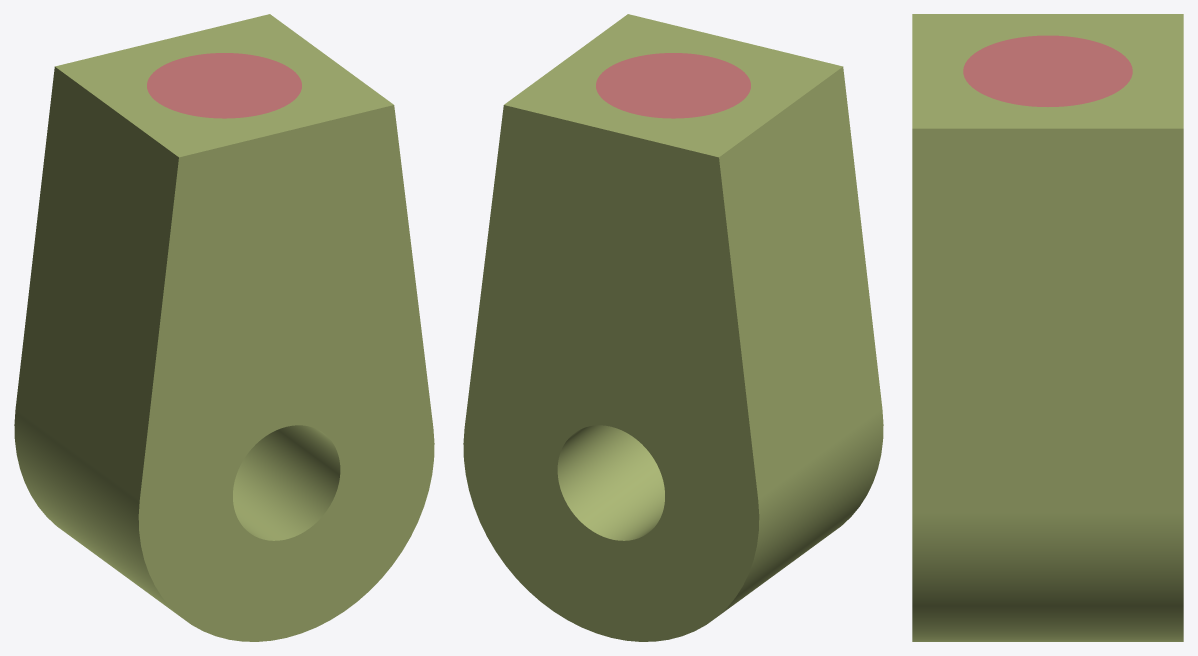
Rendered from step_09.glb.
3 renders of one model, left to right at view 1: azimuth 30°, elevation 25°; view 2: azimuth 150°, elevation 25°; view 3: azimuth 270°, elevation 25°, orthographic. The views are drawn at different scales.
Parts seen in each view (by area): view 1: part__swivel, removed__swivel; view 2: part__swivel, removed__swivel; view 3: part__swivel, removed__swivel.
Part boxes in pixels (x1=…): part__swivel: x1=14, y1=14, x2=434, y2=641; removed__swivel: x1=147, y1=53, x2=301, y2=118; part__swivel: x1=463, y1=14, x2=883, y2=641; removed__swivel: x1=596, y1=53, x2=750, y2=118; part__swivel: x1=912, y1=14, x2=1183, y2=641; removed__swivel: x1=963, y1=35, x2=1132, y2=106.
Size of the model in its own units: 43.99 by 72 by 32.
